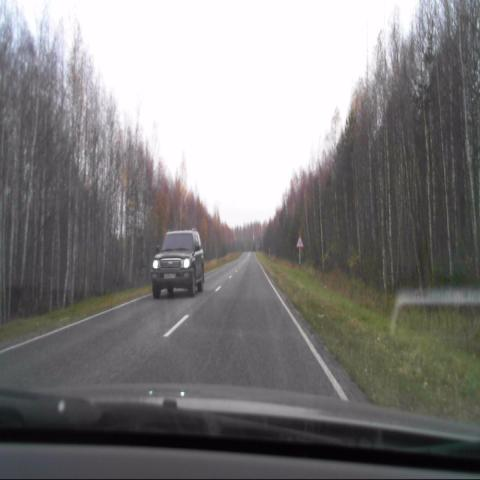1_11_1: (295, 236, 303, 248)
